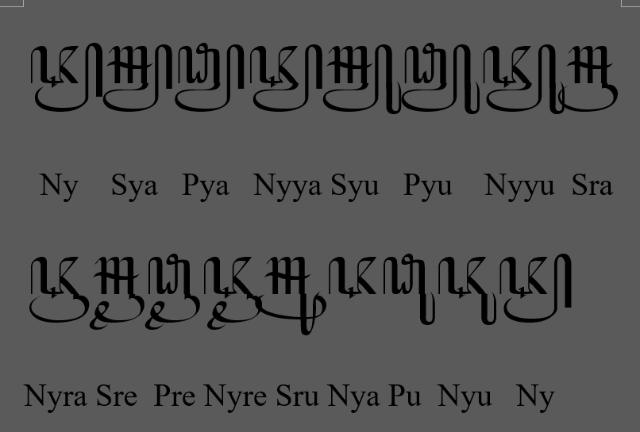-Ny: (30, 42, 104, 112), (499, 254, 573, 324)
Ny1: (328, 256, 377, 300)
Nyr: (30, 255, 90, 324)
Nyre: (204, 255, 262, 330)
Nyu1: (437, 256, 497, 326)
Nyy: (250, 44, 324, 112)
Nyyu: (482, 44, 566, 114)
Pre: (146, 252, 200, 332)
Pu: (382, 254, 436, 326)
Py: (174, 42, 246, 114)
Pyu: (401, 42, 481, 116)
Sr: (558, 45, 618, 113)
Sre: (90, 256, 146, 332)
Sru: (255, 256, 327, 338)
Sy: (102, 44, 172, 112)
Syu: (322, 44, 402, 116)
